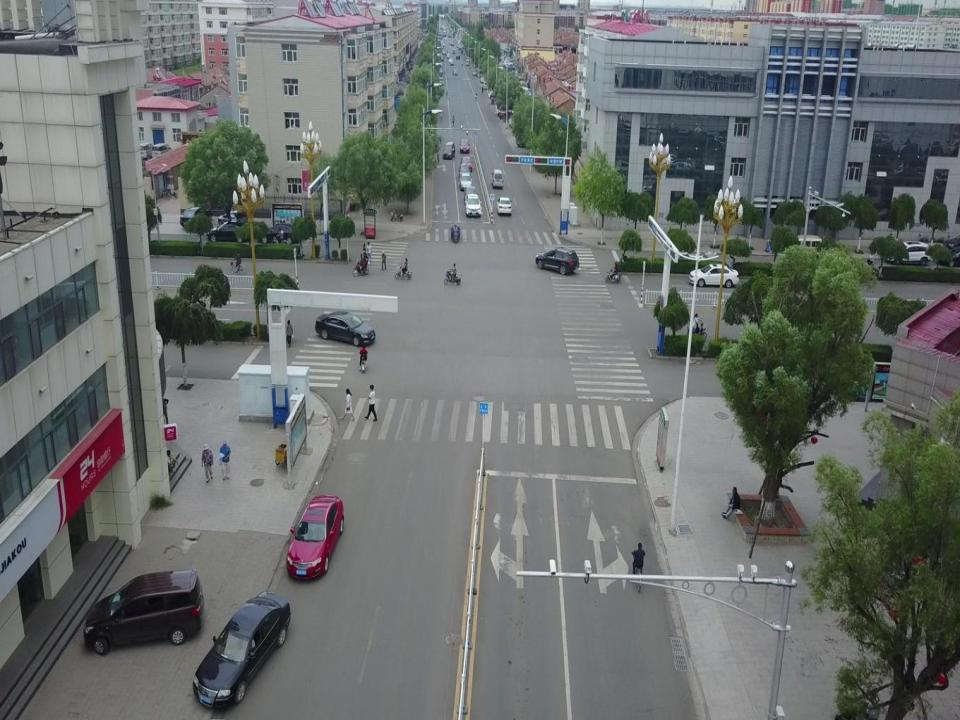car: (192, 590, 292, 709), (82, 568, 204, 656), (286, 494, 344, 581), (314, 310, 376, 346), (881, 240, 931, 266), (535, 246, 580, 274), (688, 264, 739, 288), (205, 221, 250, 243), (258, 223, 304, 244), (180, 206, 212, 229), (218, 210, 250, 231), (937, 247, 960, 267), (465, 193, 482, 217), (496, 195, 512, 216), (464, 185, 478, 204), (459, 173, 473, 190), (499, 110, 517, 121), (460, 156, 472, 172), (459, 138, 471, 154), (459, 165, 471, 180), (488, 91, 494, 98), (471, 69, 478, 75), (480, 76, 485, 83), (453, 69, 458, 75), (450, 60, 454, 65), (449, 58, 452, 63)
truck: (456, 52, 461, 60)
van: (786, 234, 822, 262), (152, 142, 173, 161), (136, 142, 157, 161), (443, 141, 456, 160), (496, 104, 514, 116), (492, 170, 503, 188), (483, 81, 489, 89), (438, 77, 443, 86), (466, 59, 470, 66), (446, 53, 450, 58), (452, 49, 455, 54)
